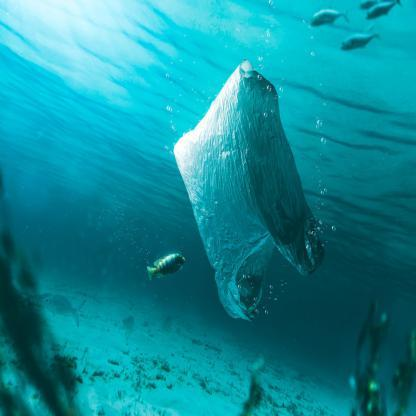Rác: (176, 55, 334, 317)
